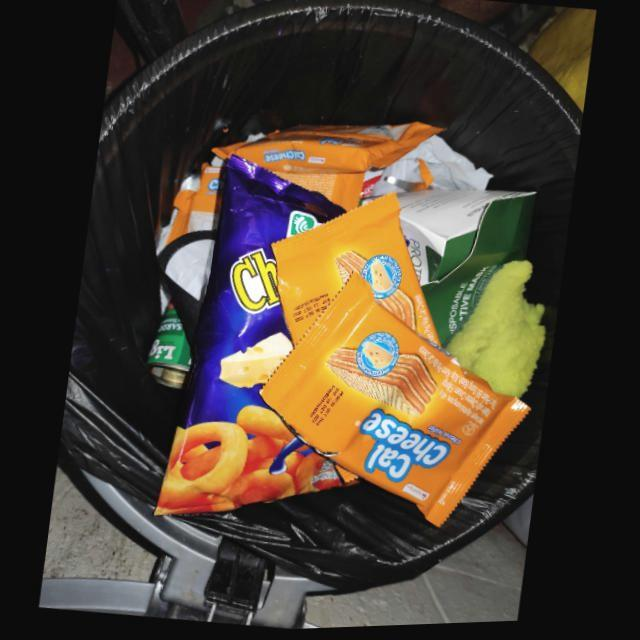aluminum: (146, 302, 194, 390)
cardboard: (397, 192, 537, 352)
food_wrapper: (262, 274, 533, 529), (157, 153, 347, 514), (272, 194, 450, 358), (211, 124, 445, 176), (168, 163, 222, 246), (272, 172, 365, 214)
